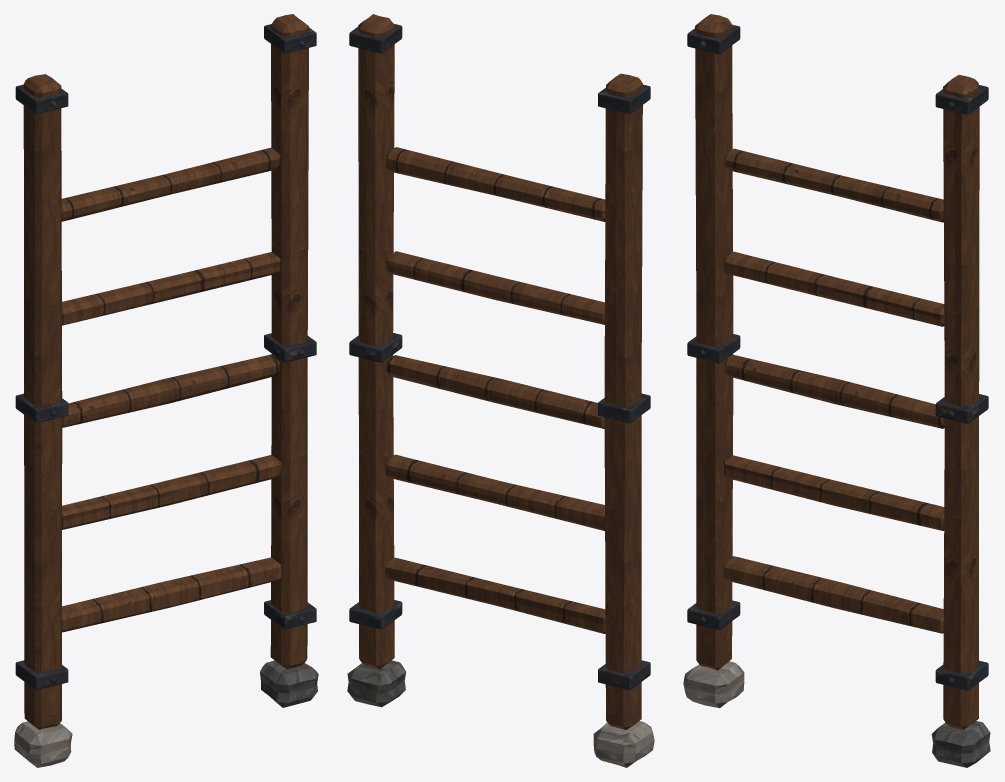
Rendered from ladder__cut_stone.glb.
The picture shows the model from 3 angles, left to right: view 1: azimuth 30°, elevation 25°; view 2: azimuth 150°, elevation 25°; view 3: azimuth 330°, elevation 25°; orthographic projection.
Visible parts, largest first — view 1: model; view 2: model; view 3: model.
Boxes of the visible parts, x1,y1,x2,y2 form: model: (14, 14, 318, 767); model: (347, 14, 654, 767); model: (683, 14, 990, 767).
Size of the model in its own units: 0.8892 by 1.98 by 0.1387.
4 materials, 4 textured.
